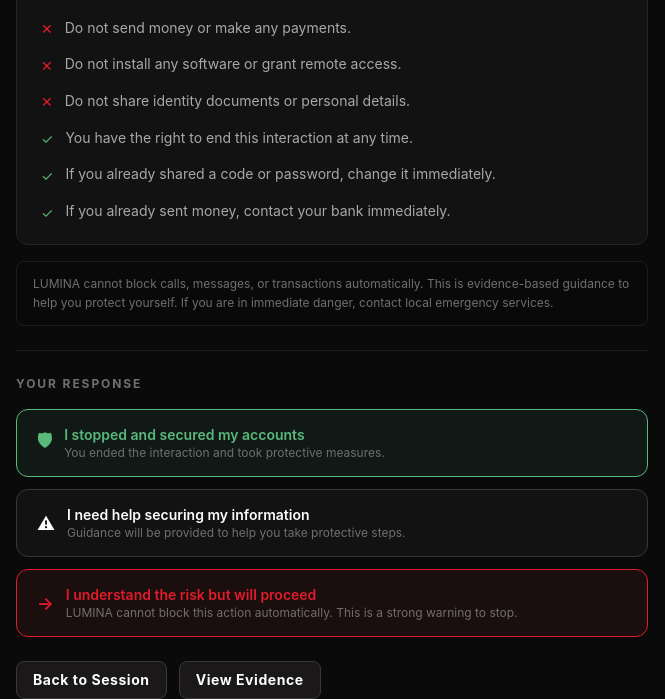
Scenario: ProtectPage › submits protect response
The width and height of the screenshot is (665, 699).
(page scrolled)
Click the button "stopped and secured".
click(332, 443)  # box [16,409,648,477]
(page scrolled)
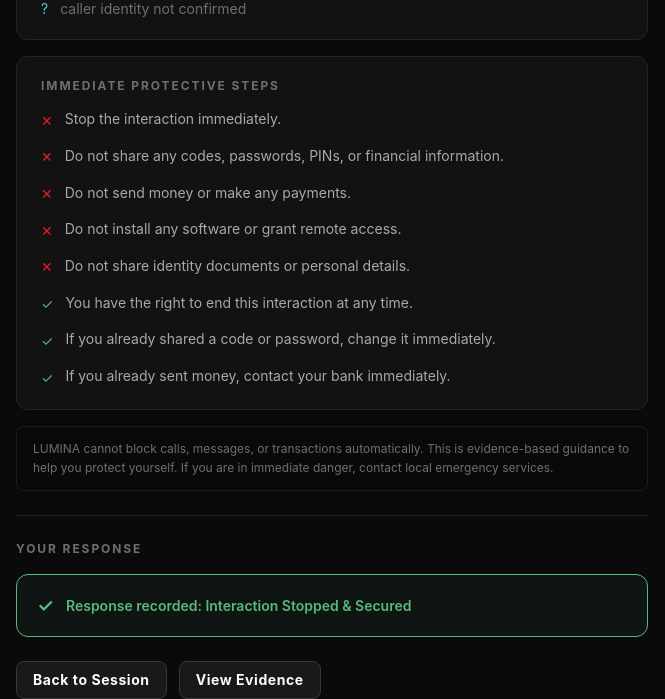
Now the text "Response recorded: Interaction Stopped & Secured" is shown, box [66,595,412,616]
